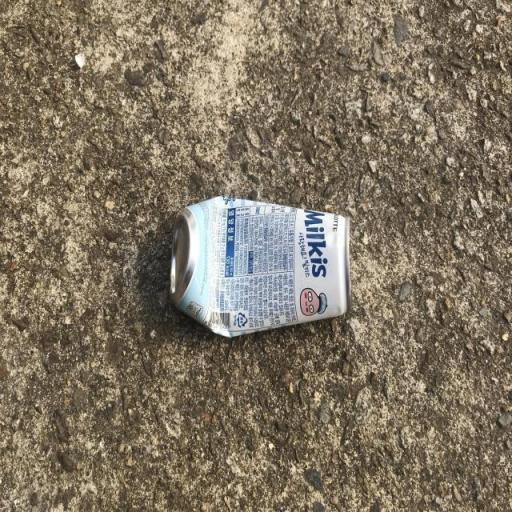metal: (146, 174, 380, 356)
